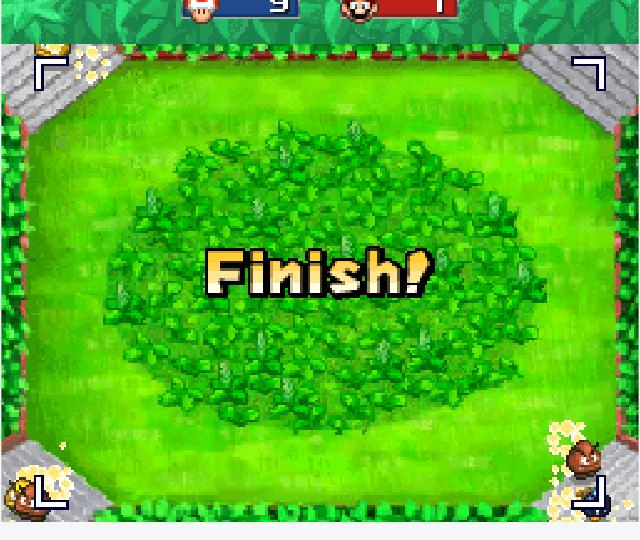bomb: (580, 482, 616, 522)
goomba: (565, 434, 607, 481), (15, 481, 55, 522), (4, 476, 29, 512)
